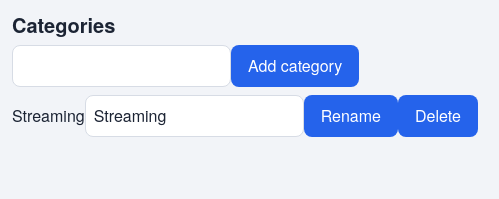
Test: CategoriesList › indique le refus quand la catégorie est référencée par un abonnement (REQ-CAT-003, 409)
Expected: the text "Streaming" is shown, [12,104,85,127]
Click the button "Delete": (438, 116) [398,95,478,137]
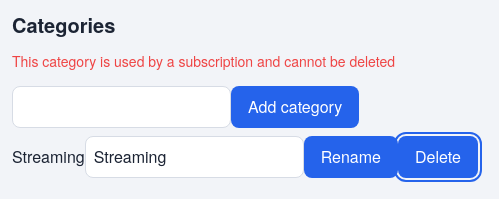
Expected: the text with test id "category-name" reads "Streaming", [12,145,85,168]
Expected: the message "This category is used by a subscription and cannot be deleted" is shown, [12,51,395,71]
